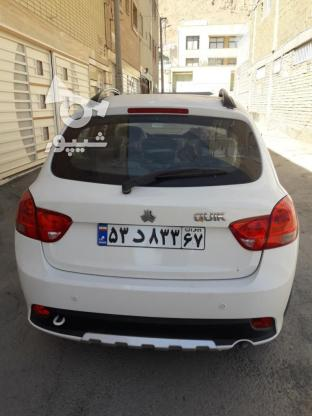car: (96, 221, 207, 252)
